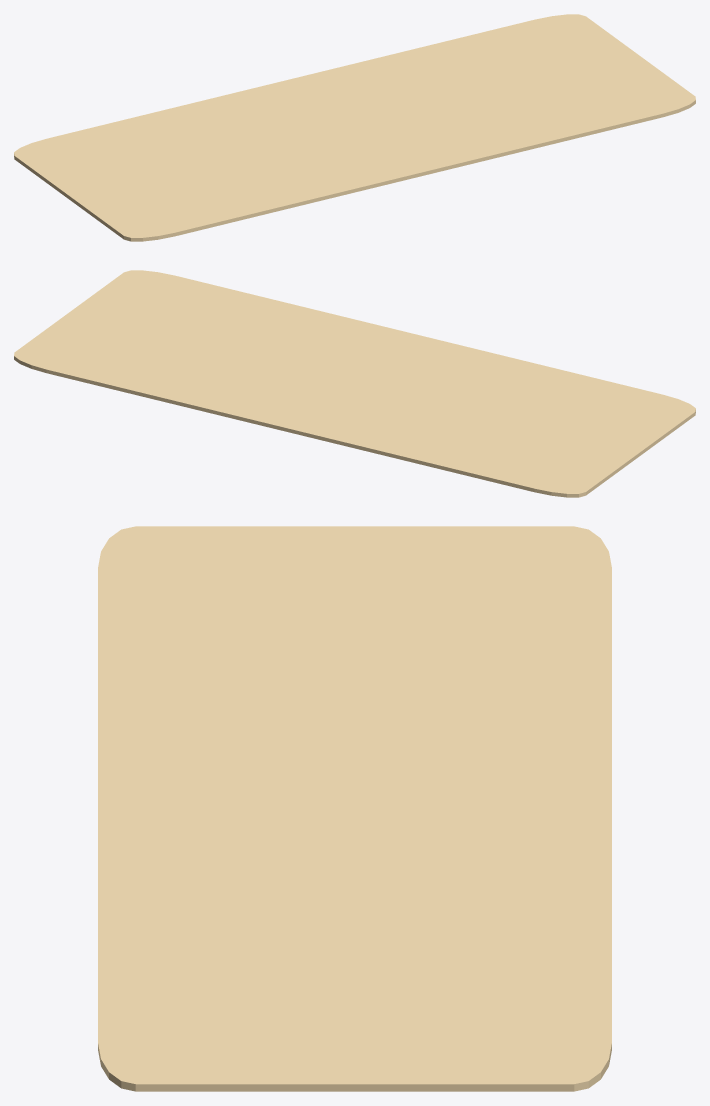
3 views of the same model, one above another, from view 1: azimuth 30°, elevation 25°; view 2: azimuth 150°, elevation 25°; view 3: azimuth 270°, elevation 25° (orthographic). The views are drawn at different scales.
Visible parts, largest first — view 1: bureau mat; view 2: bureau mat; view 3: bureau mat.
Part boxes in pixels (x1,y1,x2,y2): bureau mat: (14, 14, 695, 241); bureau mat: (14, 270, 695, 497); bureau mat: (98, 526, 611, 1091).
Bounding box in the file's own units: 1 × 0.00618 × 0.3892.
